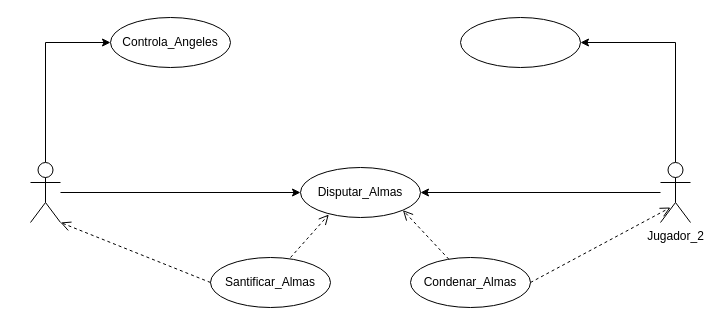
Image size: 721x325. Some labels were removed from this diagram. Here are the shapes that lost their labels. From the top down, the centre of each, then its label:
At point (520, 42): "Controla_Demonios".
At point (45, 192): "Jugador_1".
